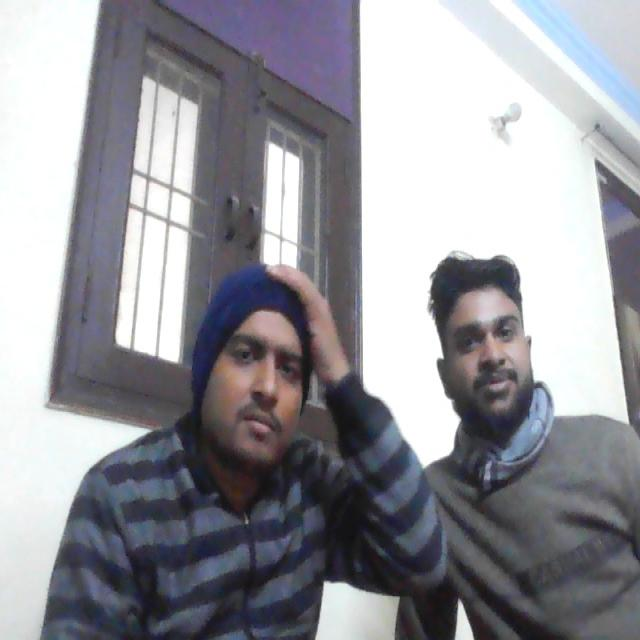real: (197, 277, 308, 488), (430, 237, 534, 433)
